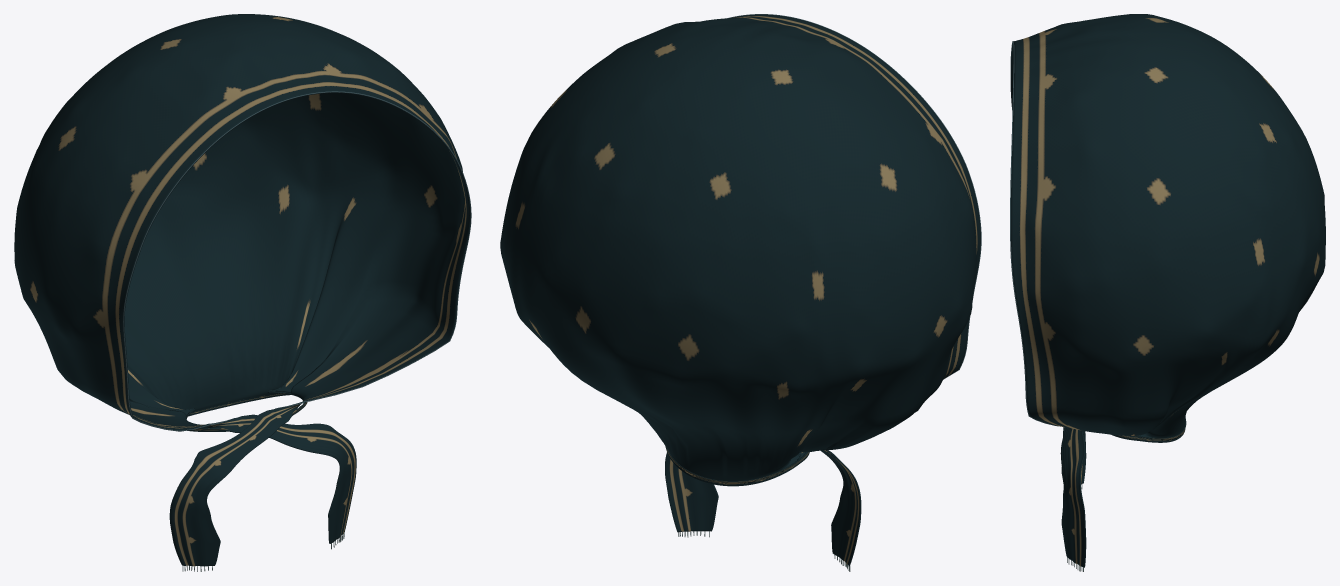
The model's file is Masculine-afro-shirtless-pashmina249-headgear.glb.
The picture shows the model from 3 angles, left to right: view 1: azimuth 30°, elevation 25°; view 2: azimuth 150°, elevation 25°; view 3: azimuth 270°, elevation 25°; orthographic projection. The views are drawn at different scales.
Parts seen in each view (by area): view 1: 226 headgear / Headwear / continuous woven pashmina239, 226 headgear / Headwear / face edge239; view 2: 226 headgear / Headwear / continuous woven pashmina239, 226 headgear / Headwear / face edge239; view 3: 226 headgear / Headwear / continuous woven pashmina239, 226 headgear / Headwear / face edge239.
Part boxes in pixels (x1,y1,x2,y2): 226 headgear / Headwear / continuous woven pashmina239: [14, 14, 470, 566]; 226 headgear / Headwear / face edge239: [123, 91, 471, 431]; 226 headgear / Headwear / continuous woven pashmina239: [500, 14, 980, 566]; 226 headgear / Headwear / face edge239: [727, 14, 981, 378]; 226 headgear / Headwear / continuous woven pashmina239: [1011, 14, 1325, 567]; 226 headgear / Headwear / face edge239: [1010, 41, 1058, 426].
Size of the model in its own units: 1.24 by 1.5 by 0.8609.
3 materials, 1 textured.
